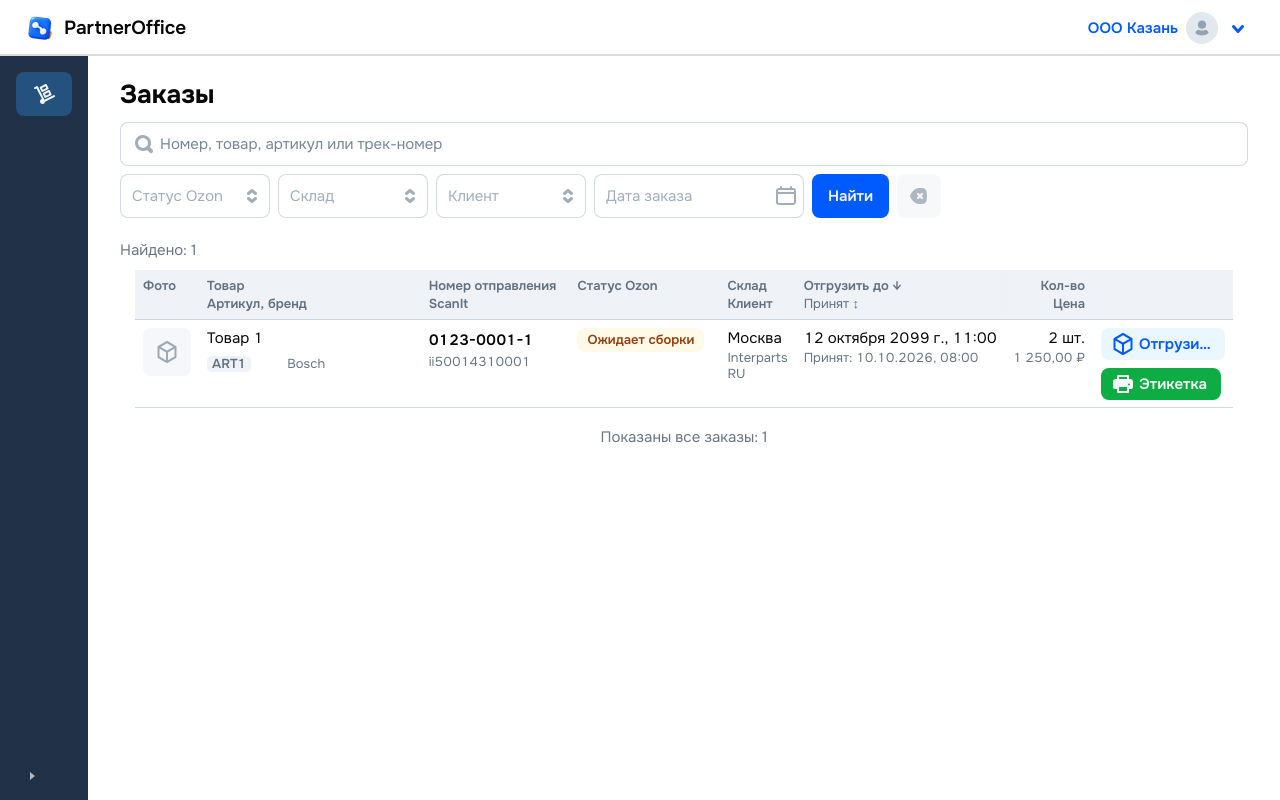
Печать этикетки › готовая этикетка печатается сразу, без запроса требований, и открывается по ссылке
Click the button "Этикетка" at (1161, 384), box top-left (1101, 368), bottom-right (1221, 400)
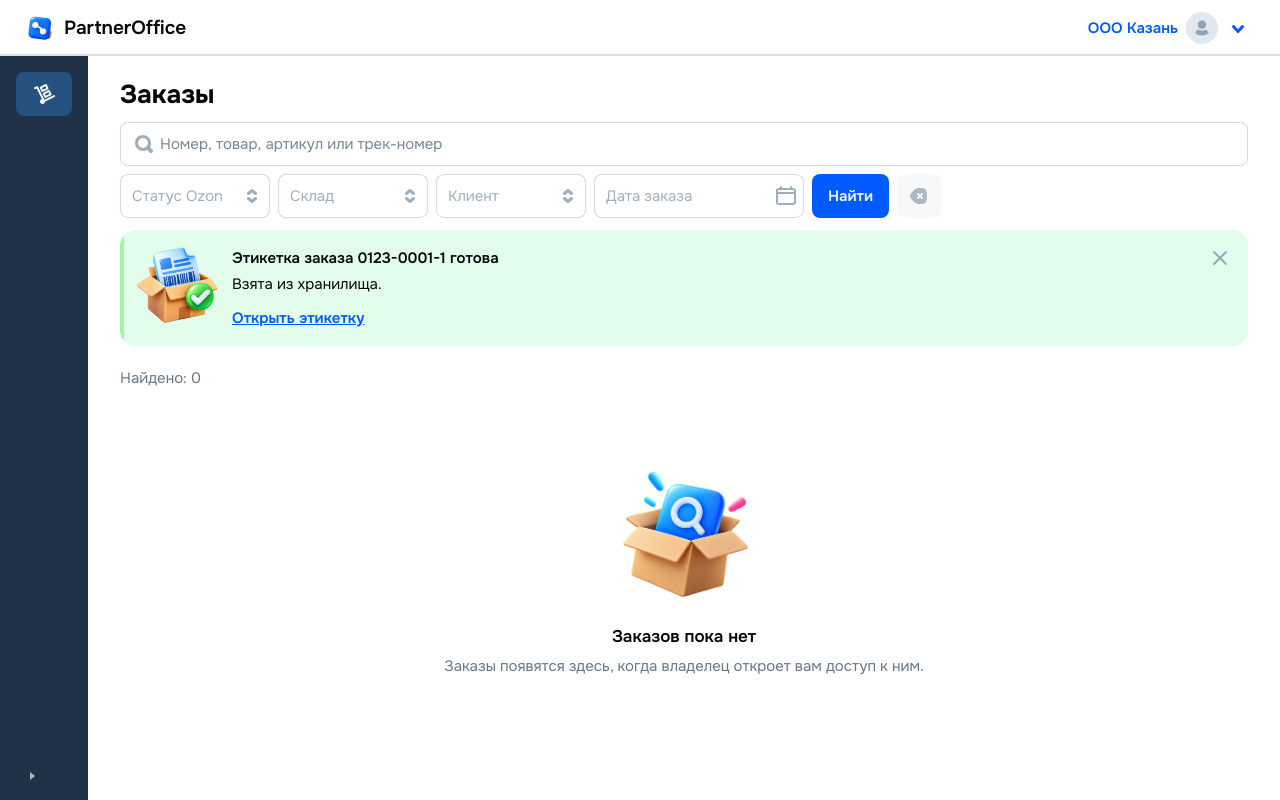
Check: the text "Этикетка заказа 0123-0001-1 готова" is shown, box top-left (232, 246), bottom-right (499, 270)
